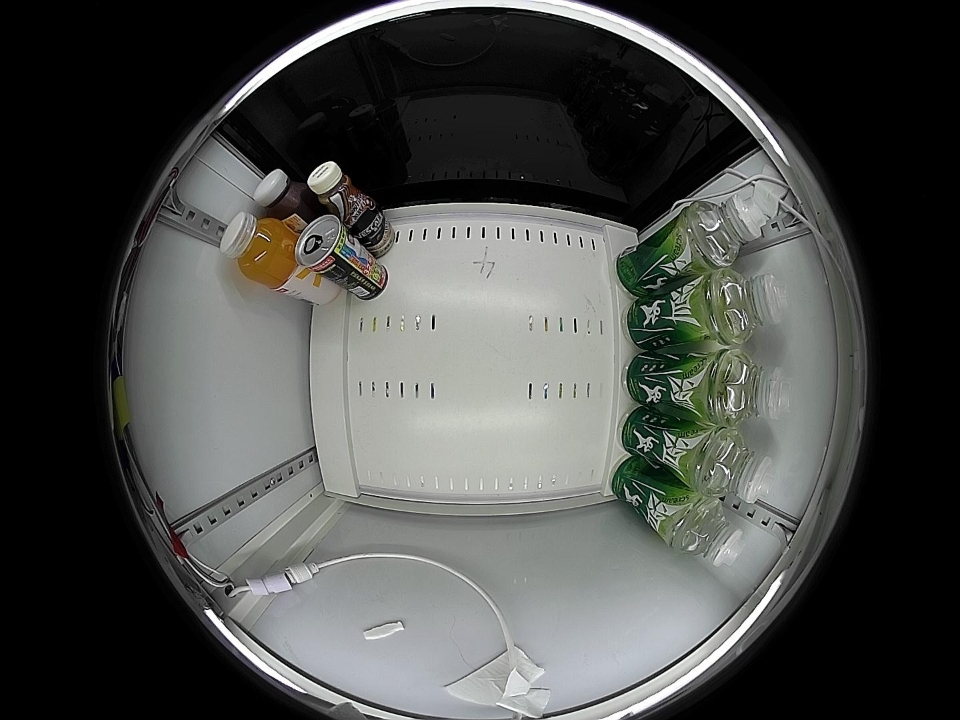jianjiao: (712, 350, 793, 426), (709, 270, 788, 345), (698, 428, 776, 503), (687, 194, 767, 267), (671, 497, 746, 567)
kafei: (307, 161, 376, 225)
weic: (220, 213, 297, 288)
yezhi: (293, 214, 351, 274)
youyanggudong: (253, 170, 309, 220)
